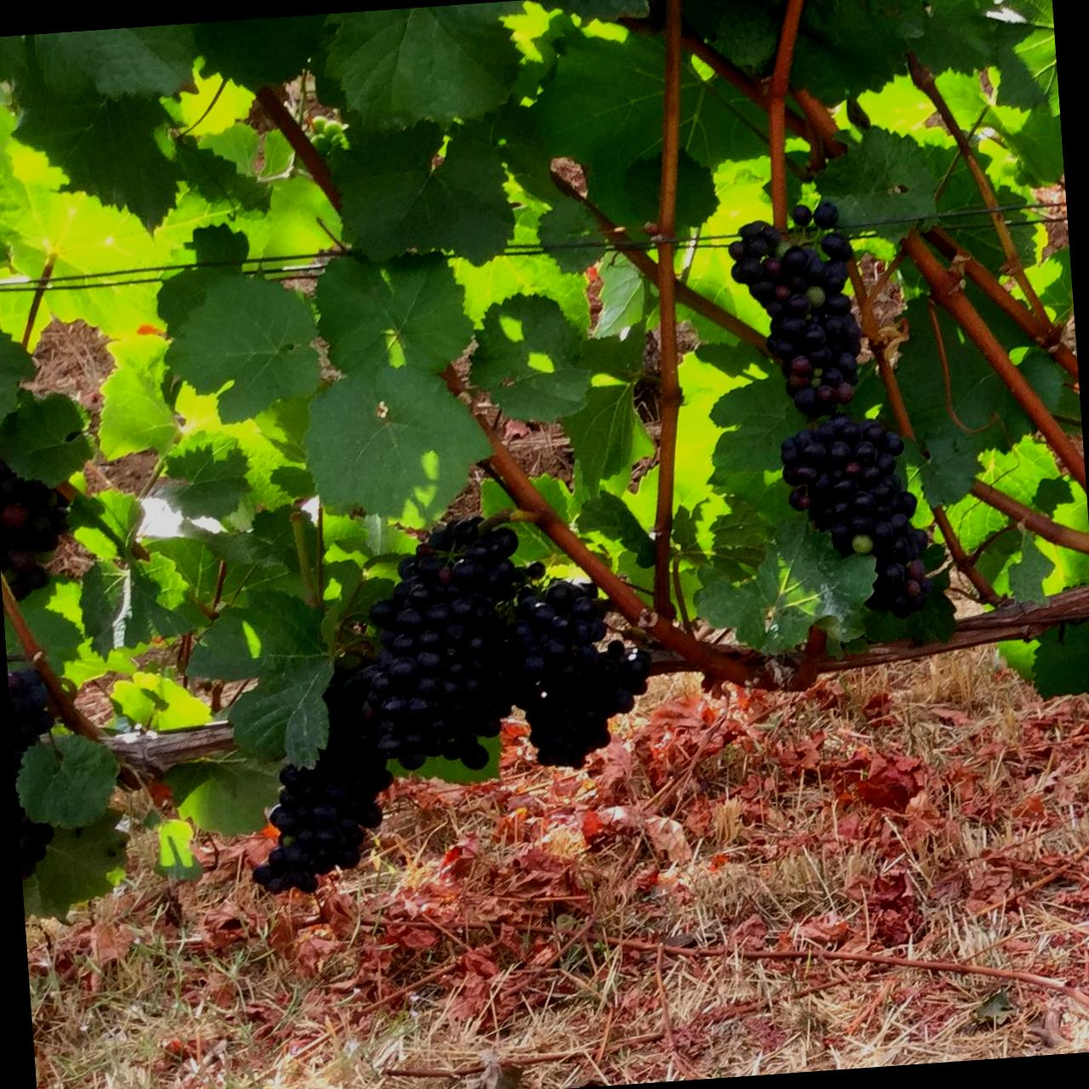Grape Ripe: (356, 478, 549, 770), (717, 182, 909, 434), (237, 635, 391, 911), (755, 412, 950, 614), (500, 567, 639, 777), (0, 455, 69, 610)
